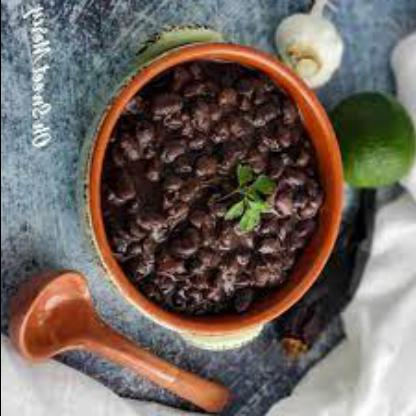black beans: (103, 60, 321, 314)
